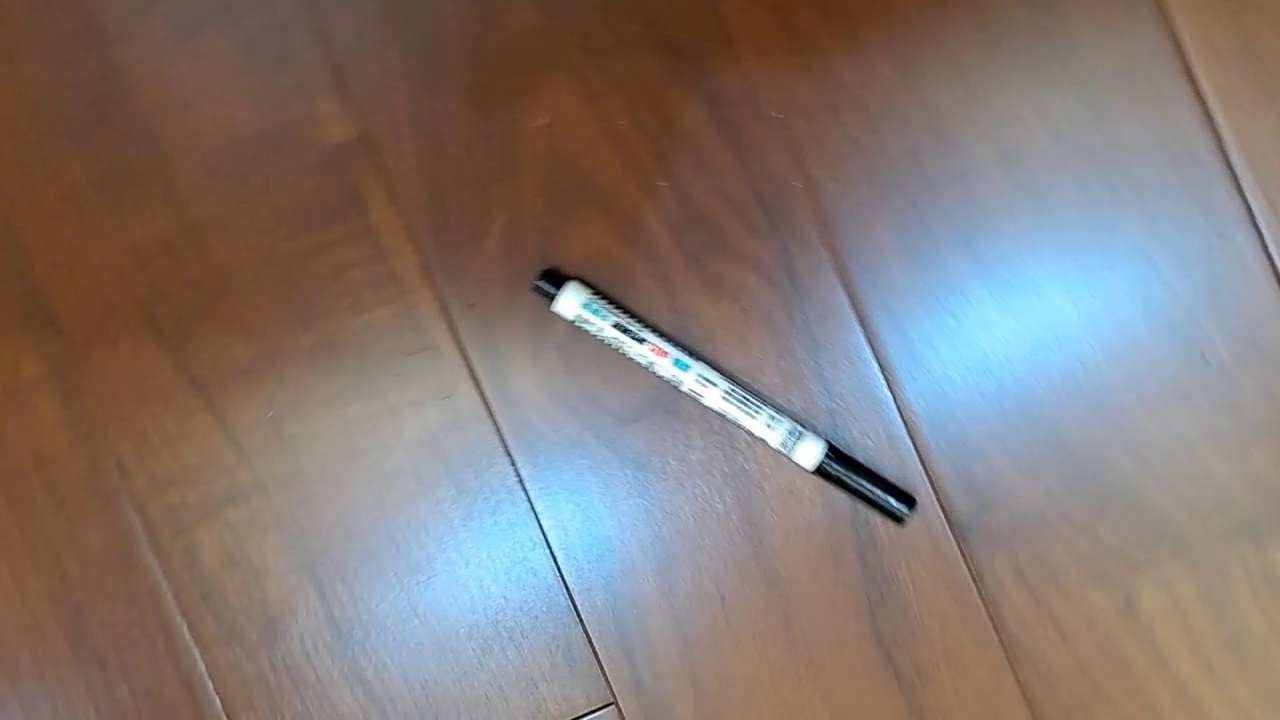pen: (529, 265, 920, 529)
